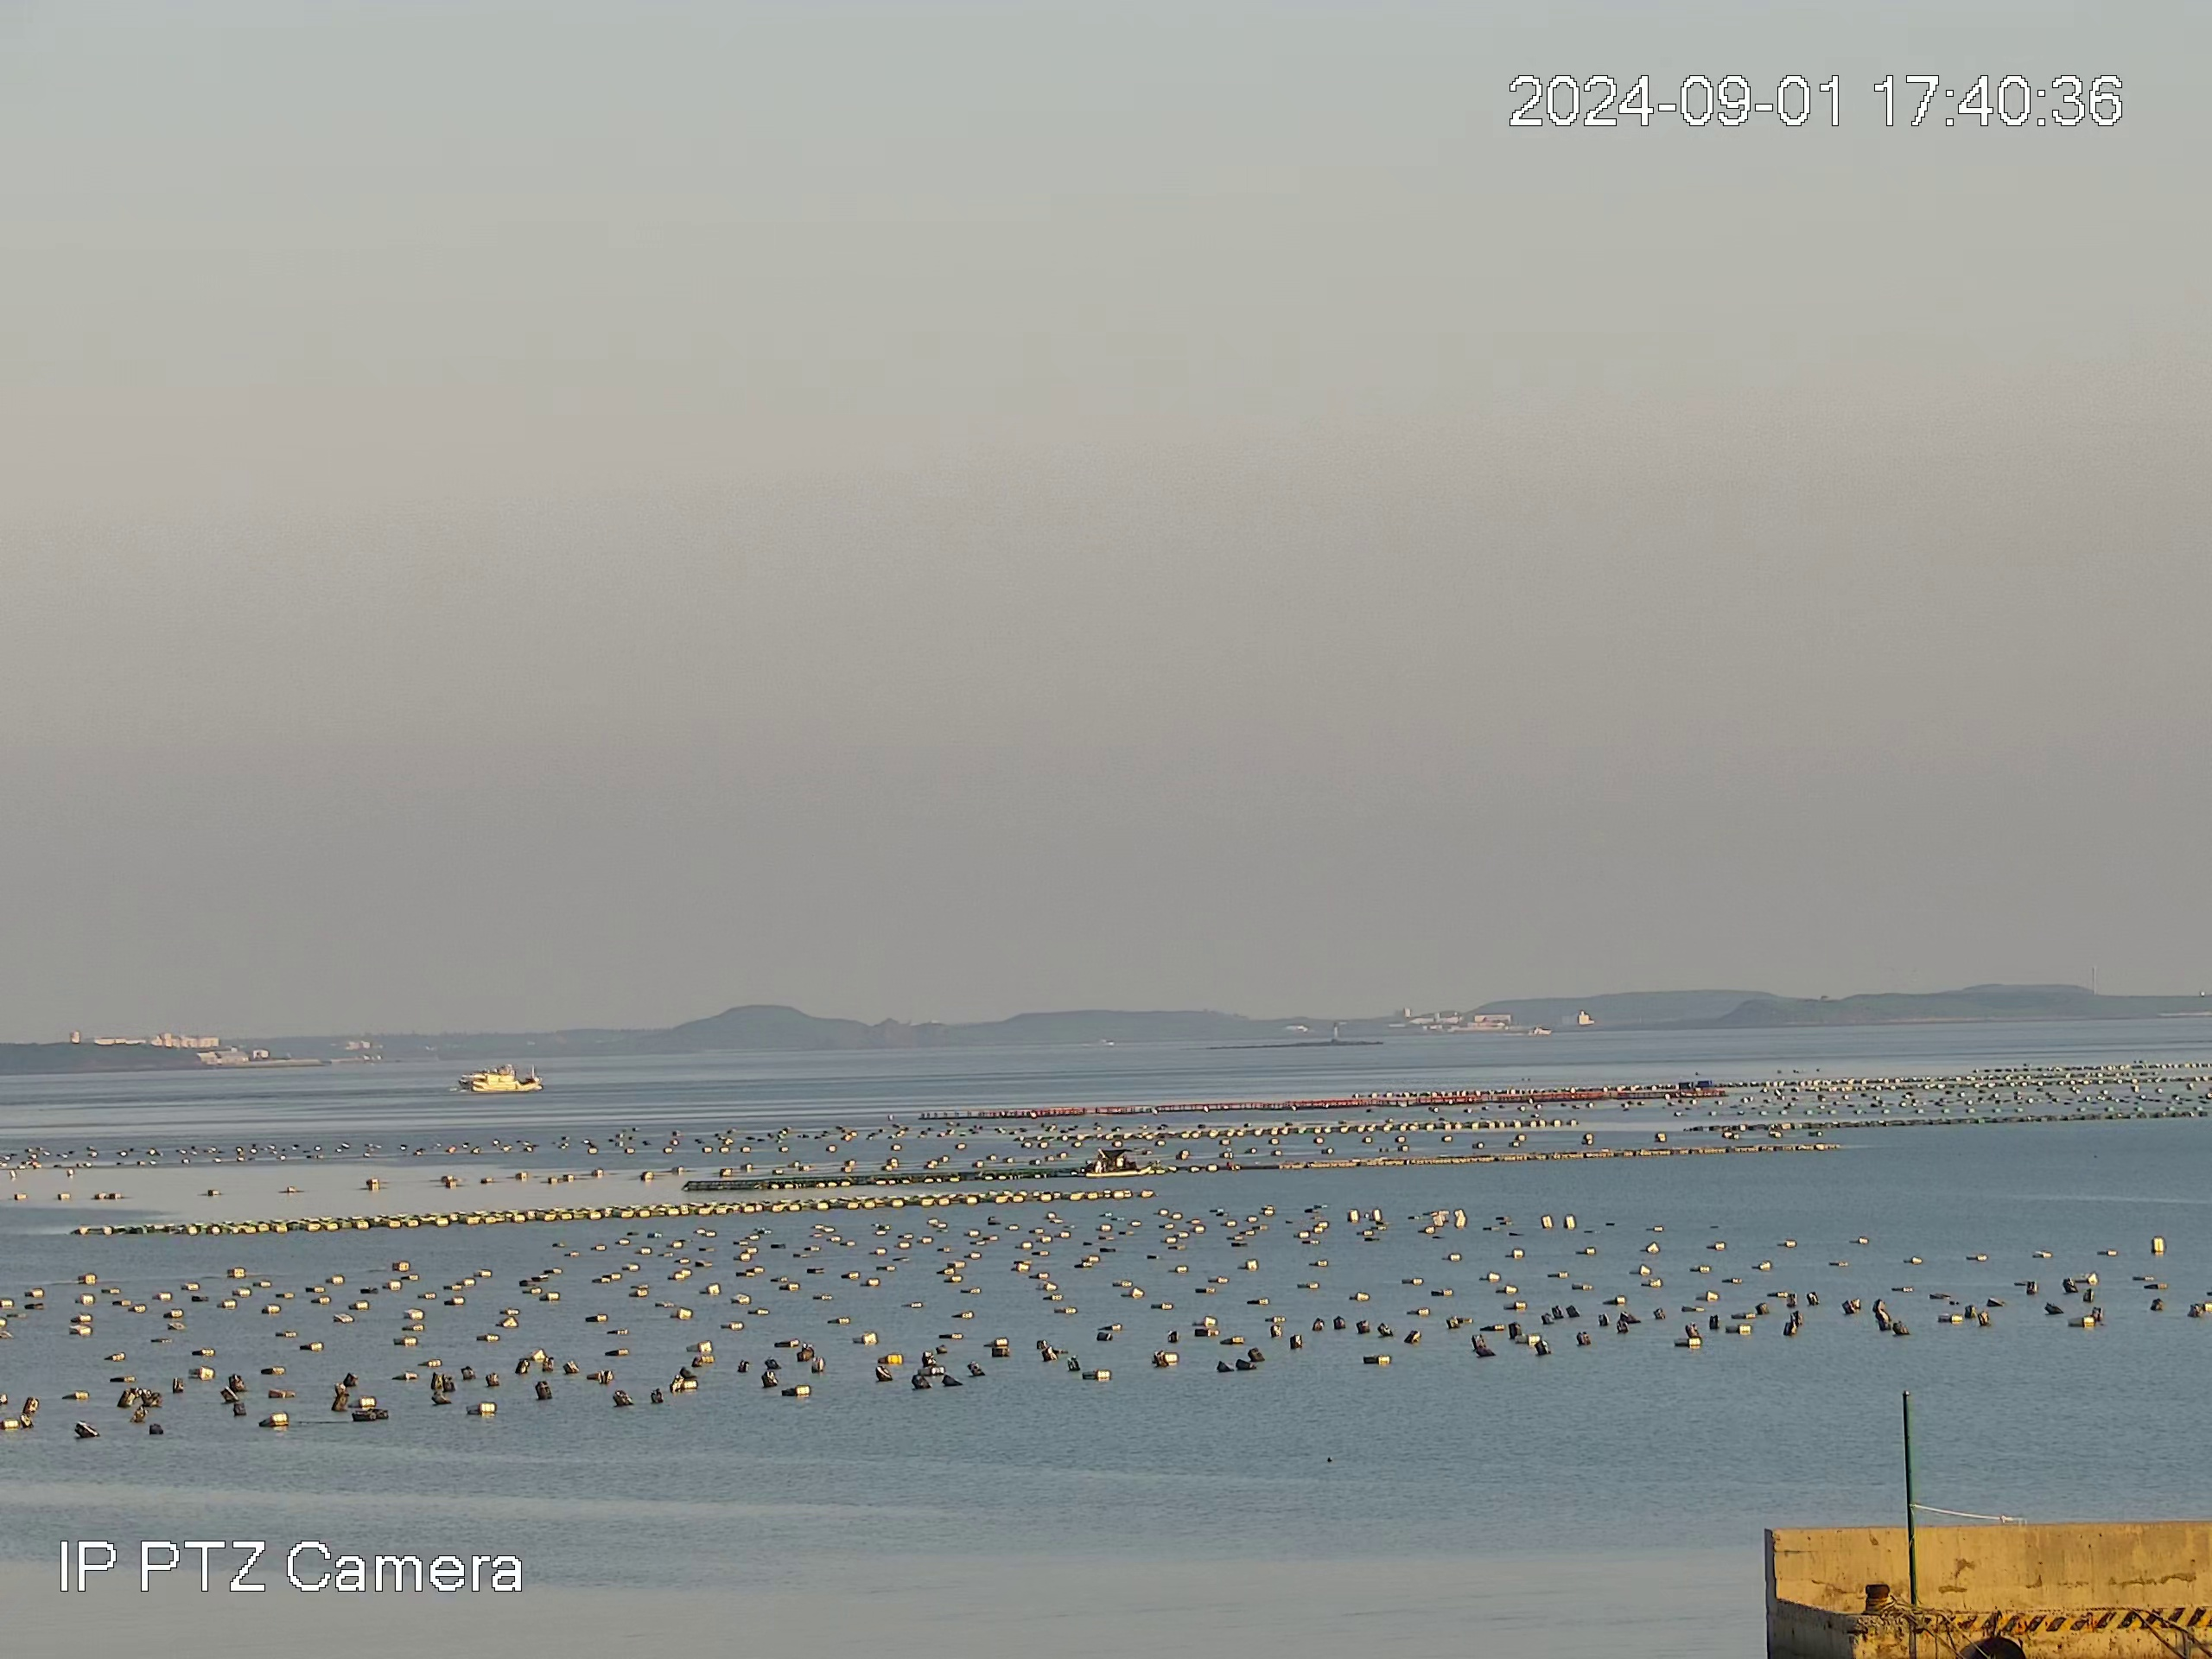boat: (456, 1066, 545, 1093), (1085, 1145, 1155, 1176)
